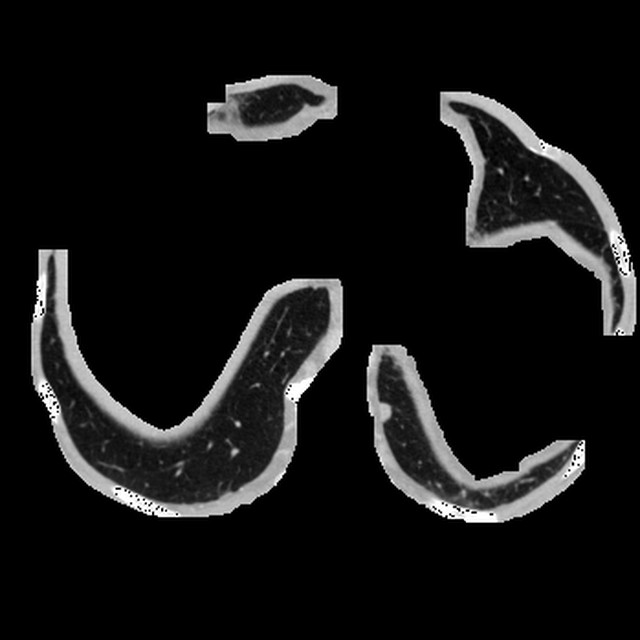PN: (378, 403, 392, 418)
